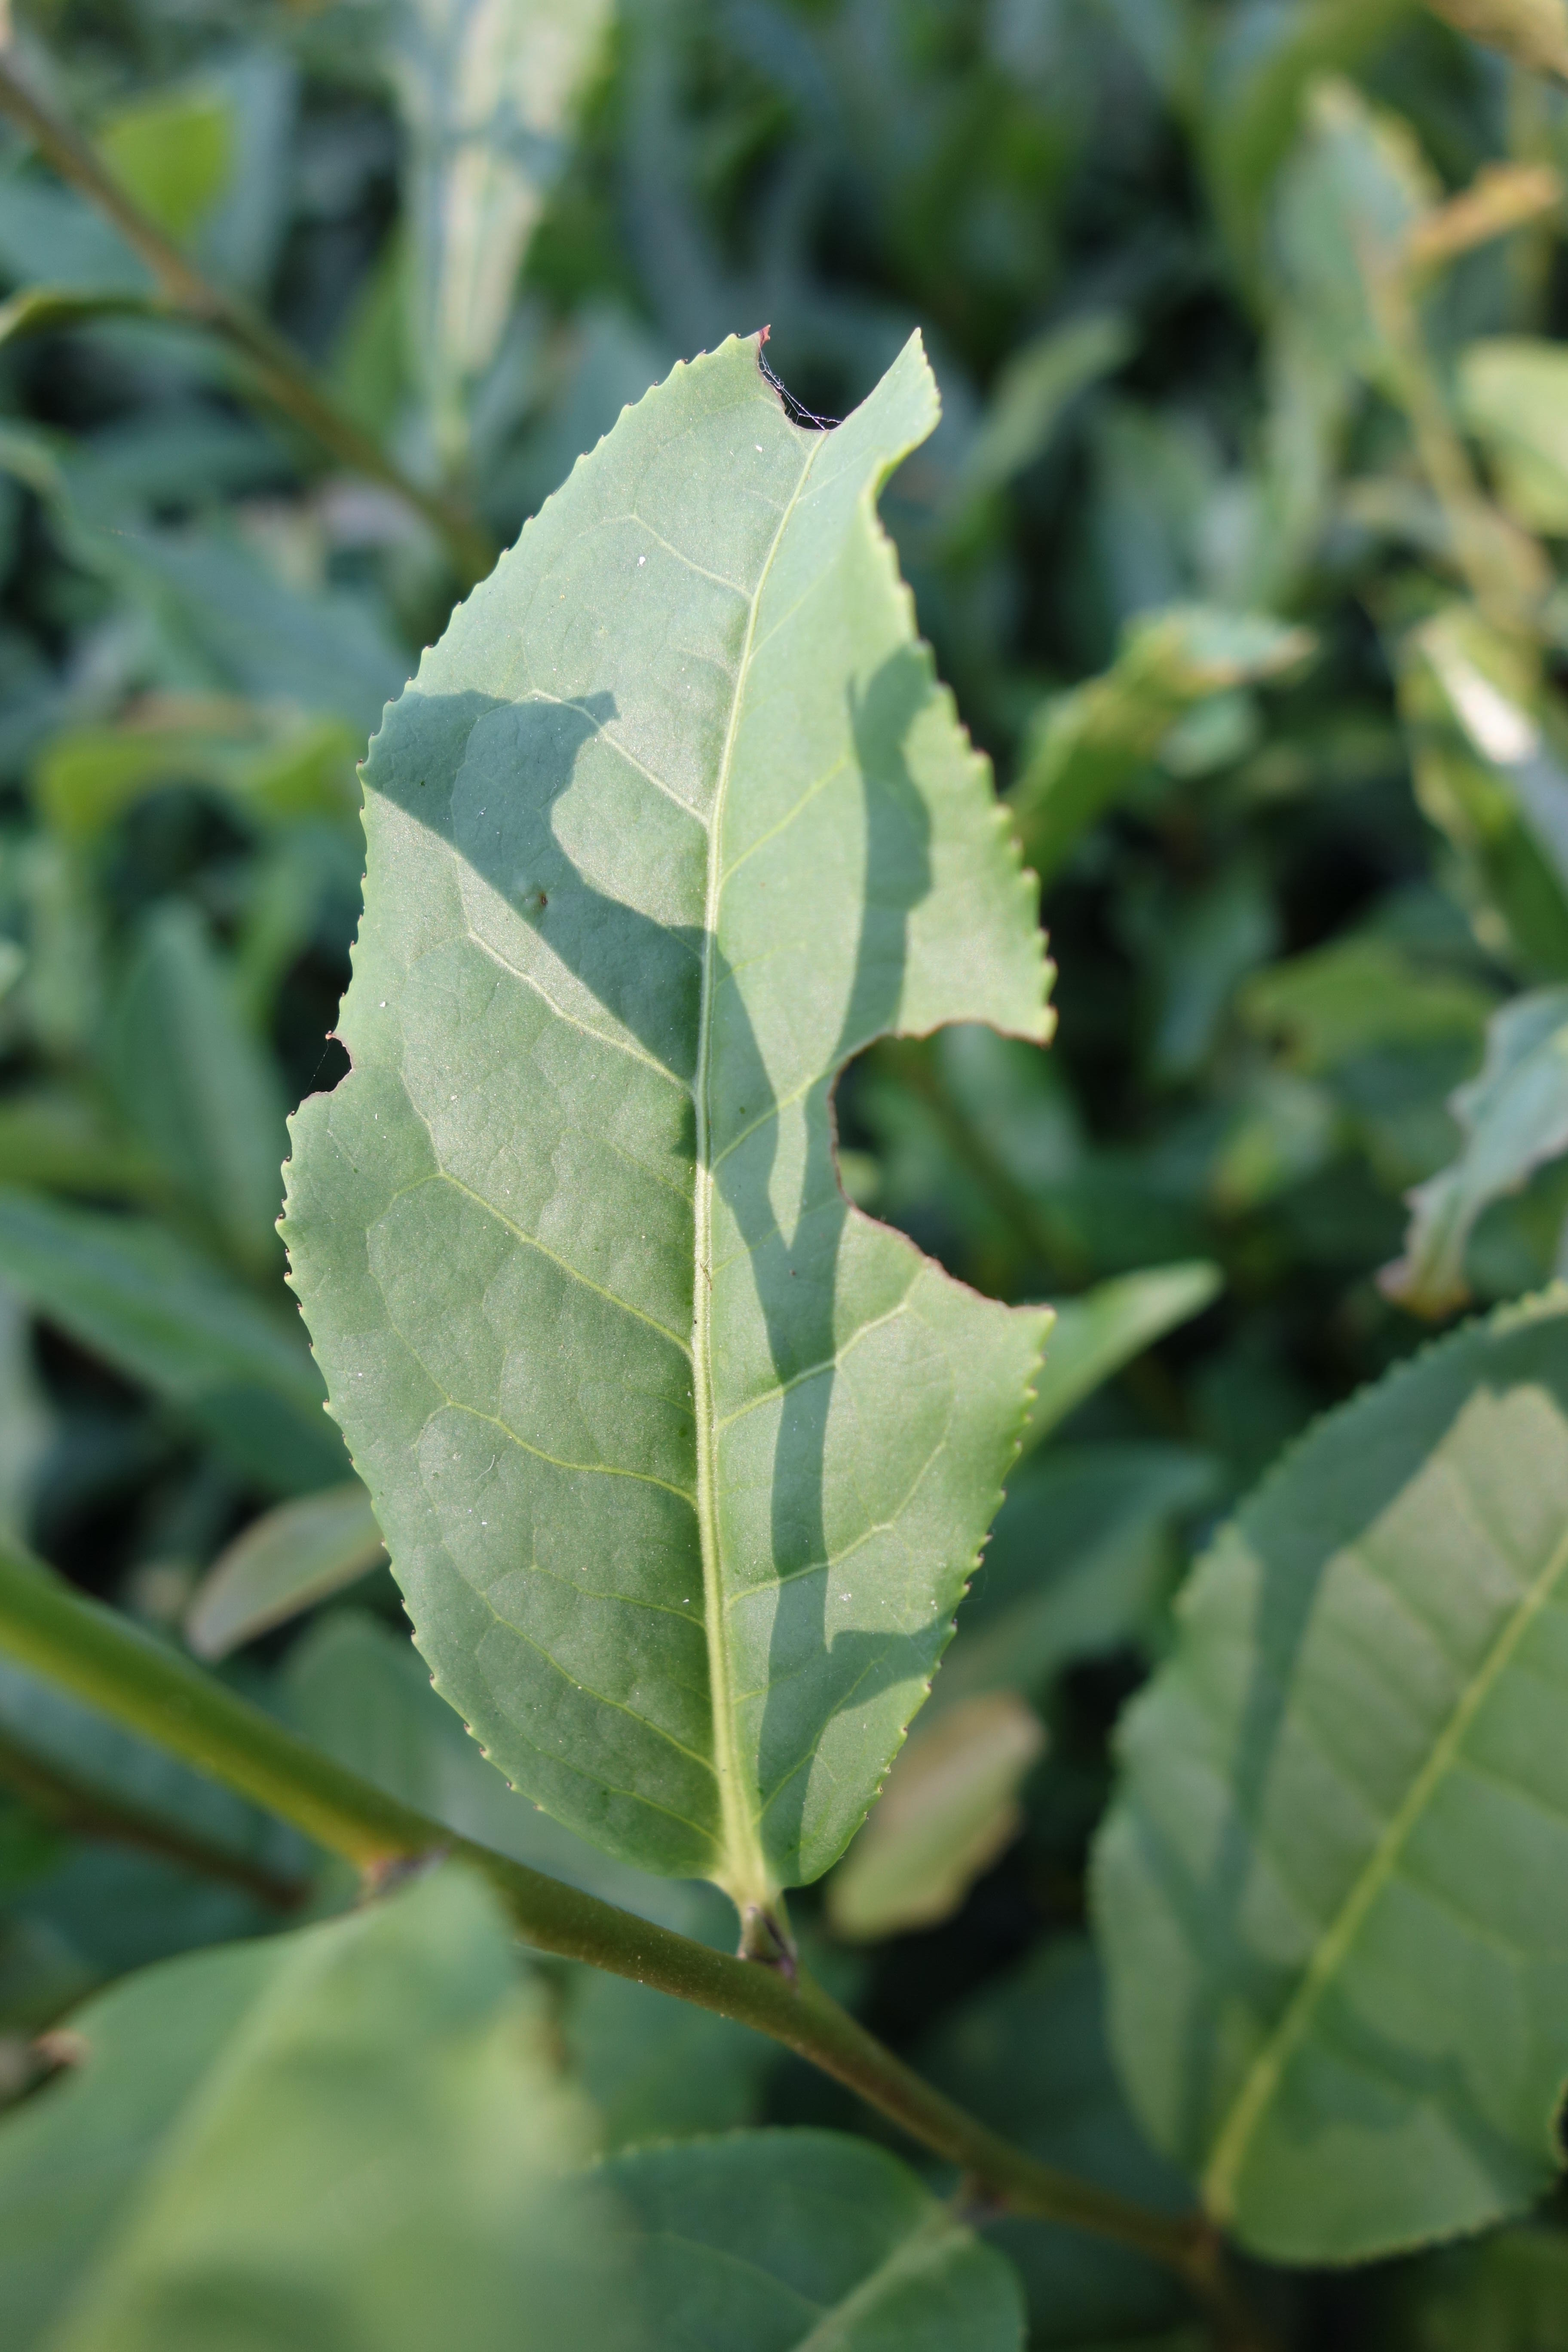chihuo_high: (278, 322, 1074, 1911)
